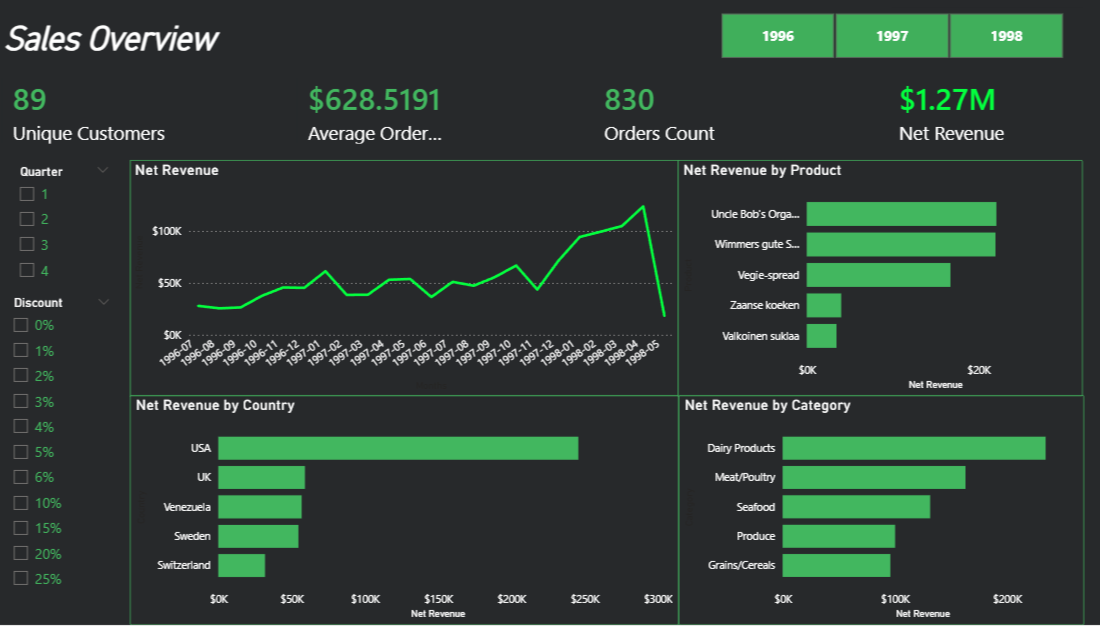

Layout of this report page (visuals, bound fields, positions):
{"tool":"powerbi","page":{"name":"Page 1","canvas":[1280,720],"ordinal":0},"visuals":[{"type":"cardVisual","fields":{"Data":["vw_sales_dataset_fact.Customer Count"]},"box":[0,77.1,250,110],"z":0},{"type":"cardVisual","fields":{"Data":["vw_sales_dataset_fact.Average Order Value"]},"box":[337,77.1,250,110],"z":1000},{"type":"cardVisual","fields":{"Data":["vw_sales_dataset_fact.Net Revenue"]},"box":[1013.1,77.1,250,110],"z":2000},{"type":"cardVisual","fields":{"Data":["vw_sales_dataset_fact.Orders Count"]},"box":[675,77.1,250,110],"z":3000},{"type":"textbox","box":[0,0,371.4,92.9],"z":4000},{"type":"lineChart","title":"Net Revenue ","fields":{"Y":["vw_sales_dataset_fact.Net Revenue"],"Category":["dim_date.Year_monthl"]},"box":[163.2,187.9,626.8,270],"z":5000},{"type":"barChart","fields":{"Category":["dim_customers.Country"],"Y":["vw_sales_dataset_fact.Net Revenue"]},"box":[163,457,627,263],"z":6000},{"type":"barChart","title":"Net Revenue by Product","fields":{"Category":["dim_products.ProductName"],"Y":["vw_sales_dataset_fact.Net Revenue"]},"box":[789,188,463,270],"z":7000},{"type":"barChart","title":"Net Revenue by Category","fields":{"Y":["vw_sales_dataset_fact.Net Revenue"],"Category":["dim_products.CategoryName"]},"box":[790,457.1,462.9,262.9],"z":8000},{"type":"slicer","fields":{"Values":["dim_date.Year"]},"box":[812.9,14.3,440,64.3],"z":9000},{"type":"slicer","fields":{"Values":["dim_date.Quarter"]},"box":[24.7,188,126.2,150.9],"z":10000},{"type":"slicer","fields":{"Values":["vw_sales_dataset_fact.Discount"]},"box":[16.5,338.9,134.5,360.9],"z":11000}]}

Visuals, with their boxes in screenshot pixels (x1, y1, x2, y2), scaled from the page's 1280x720 canvas onto the 1100x626 screenshot:
cardVisual - vw_sales_dataset_fact.Customer Count: 0,67,215,163
cardVisual - vw_sales_dataset_fact.Average Order Value: 290,67,504,163
cardVisual - vw_sales_dataset_fact.Net Revenue: 871,67,1085,163
cardVisual - vw_sales_dataset_fact.Orders Count: 580,67,795,163
textbox: 0,0,319,81
"Net Revenue " lineChart: 140,163,679,398
barChart - dim_customers.Country x vw_sales_dataset_fact.Net Revenue: 140,397,679,625
"Net Revenue by Product" barChart: 678,163,1076,398
"Net Revenue by Category" barChart: 679,397,1077,625
slicer - dim_date.Year: 699,12,1077,68
slicer - dim_date.Quarter: 21,163,130,295
slicer - vw_sales_dataset_fact.Discount: 14,295,130,608
